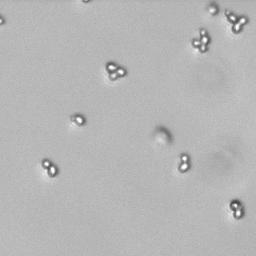budding: (106, 62, 126, 80), (42, 160, 59, 178), (177, 154, 191, 173), (229, 200, 243, 219), (72, 113, 85, 126)
cluster: (224, 8, 250, 34), (190, 27, 213, 54)
individual: (206, 3, 218, 15)
